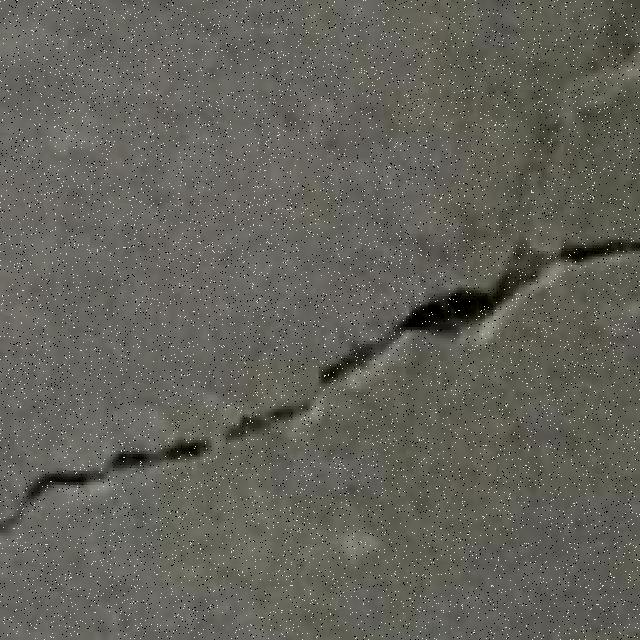crack: (1, 371, 640, 538), (324, 235, 631, 379), (482, 234, 636, 297), (223, 378, 360, 436), (10, 454, 176, 500)
